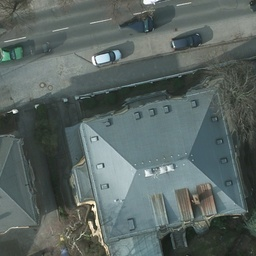car: (169, 31, 202, 51), (91, 50, 122, 68), (1, 45, 23, 59)
